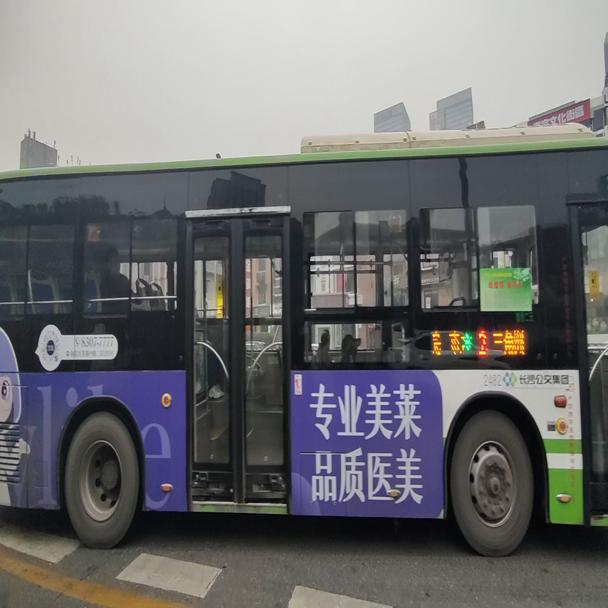bus: (0, 135, 603, 558)
screen: (474, 325, 489, 358)
